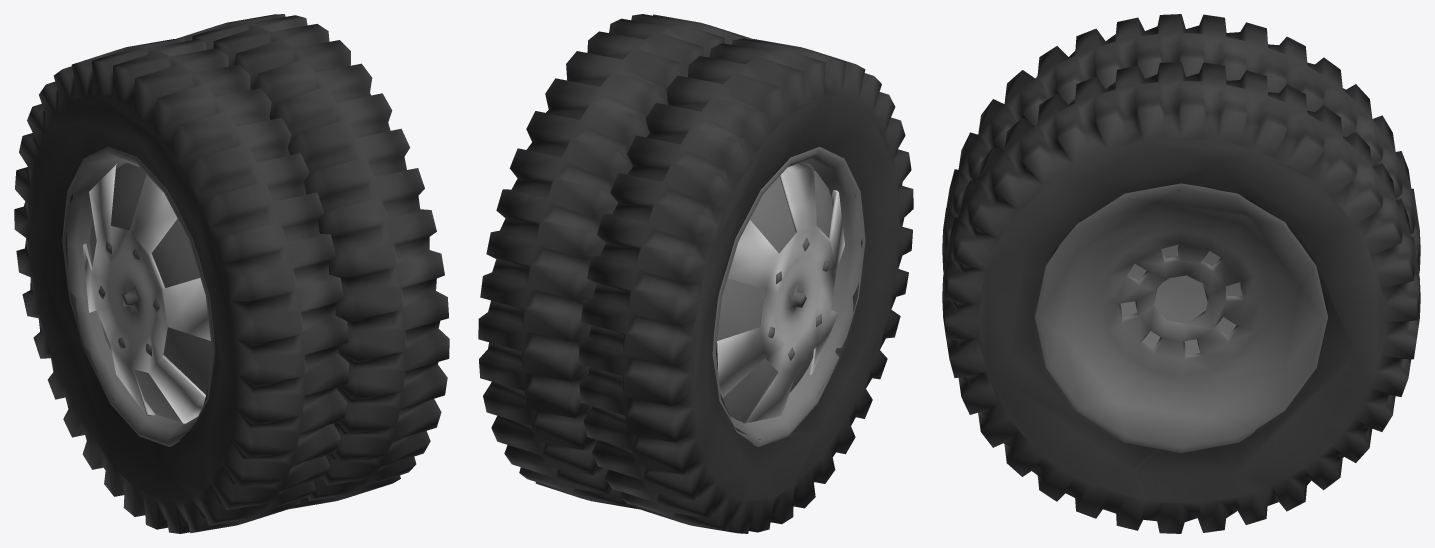
File: OT_wheel_rear_d2.obj
3 renders of one model, left to right at view 1: azimuth 30°, elevation 25°; view 2: azimuth 150°, elevation 25°; view 3: azimuth 270°, elevation 25°, orthographic. The views are drawn at different scales.
Parts seen in each view (by area): view 1: OT_wheel_rear; view 2: OT_wheel_rear; view 3: OT_wheel_rear.
Part boxes in pixels (x1=…): OT_wheel_rear: x1=14, y1=14, x2=449, y2=533; OT_wheel_rear: x1=478, y1=14, x2=913, y2=533; OT_wheel_rear: x1=942, y1=14, x2=1420, y2=533.
Bounding box in the file's own units: 0.4832 × 0.9907 × 0.9912.
1 material, 1 textured.
